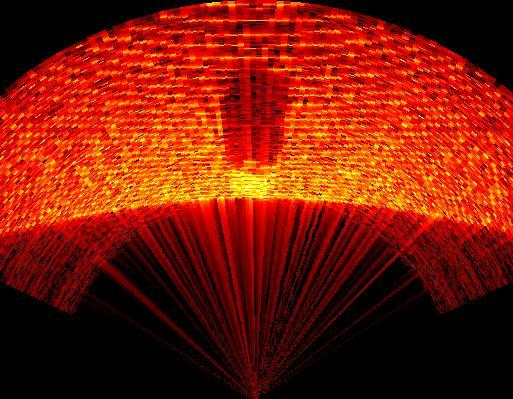box_crate: (217, 68, 292, 166)
